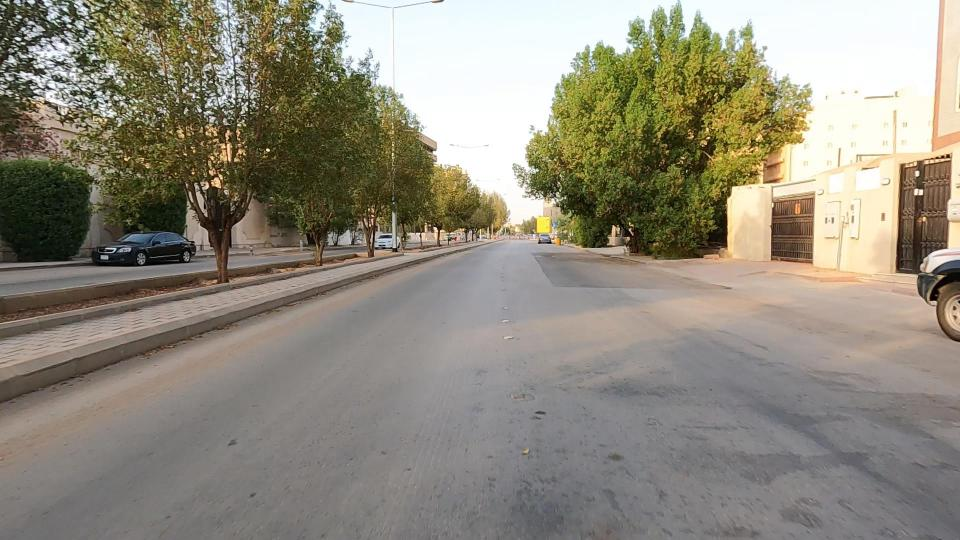POTHOLES: (500, 224, 613, 316)
